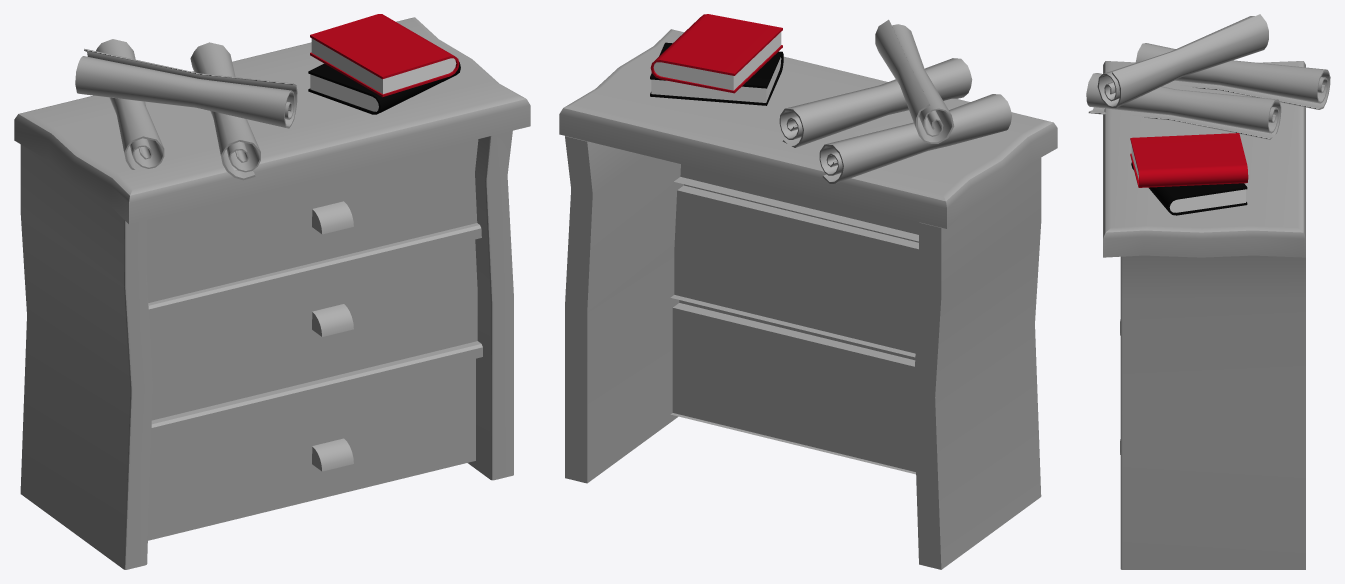
Rendered from Chest of Drawers.fbx.
The picture shows the model from 3 angles, left to right: view 1: azimuth 30°, elevation 25°; view 2: azimuth 150°, elevation 25°; view 3: azimuth 270°, elevation 25°; orthographic projection. The views are drawn at different scales.
Parts seen in each view (by area): view 1: Chest_of_Drawers1; view 2: Chest_of_Drawers1; view 3: Chest_of_Drawers1.
Part boxes in pixels (box(x1,y1,x2,y2)): Chest_of_Drawers1: box(14, 14, 530, 569); Chest_of_Drawers1: box(559, 14, 1057, 569); Chest_of_Drawers1: box(1086, 14, 1330, 569).
Bounding box in the file's own units: 0.0457 × 0.0495 × 0.0271.
